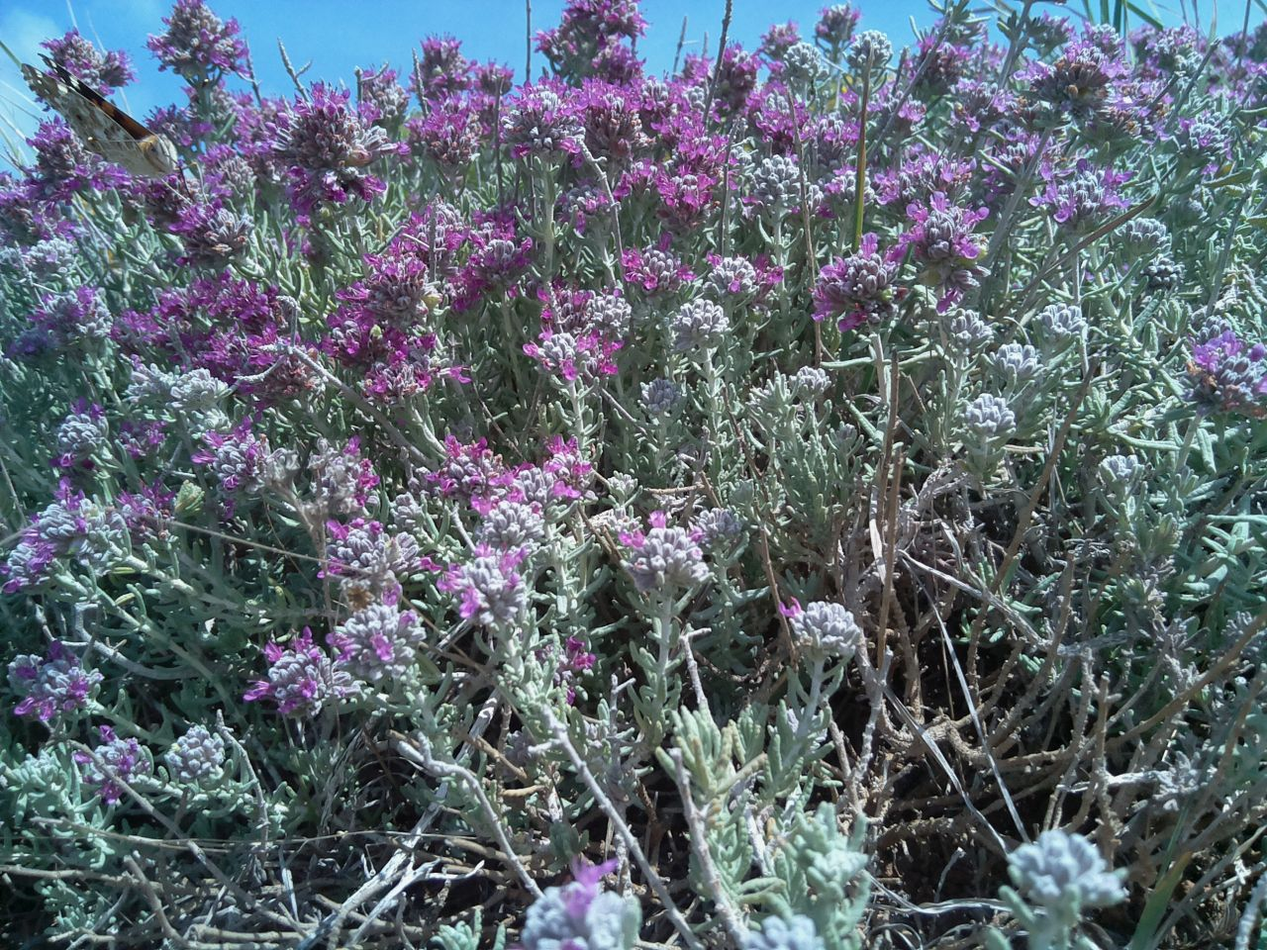Butterfly: (12, 47, 209, 206)
